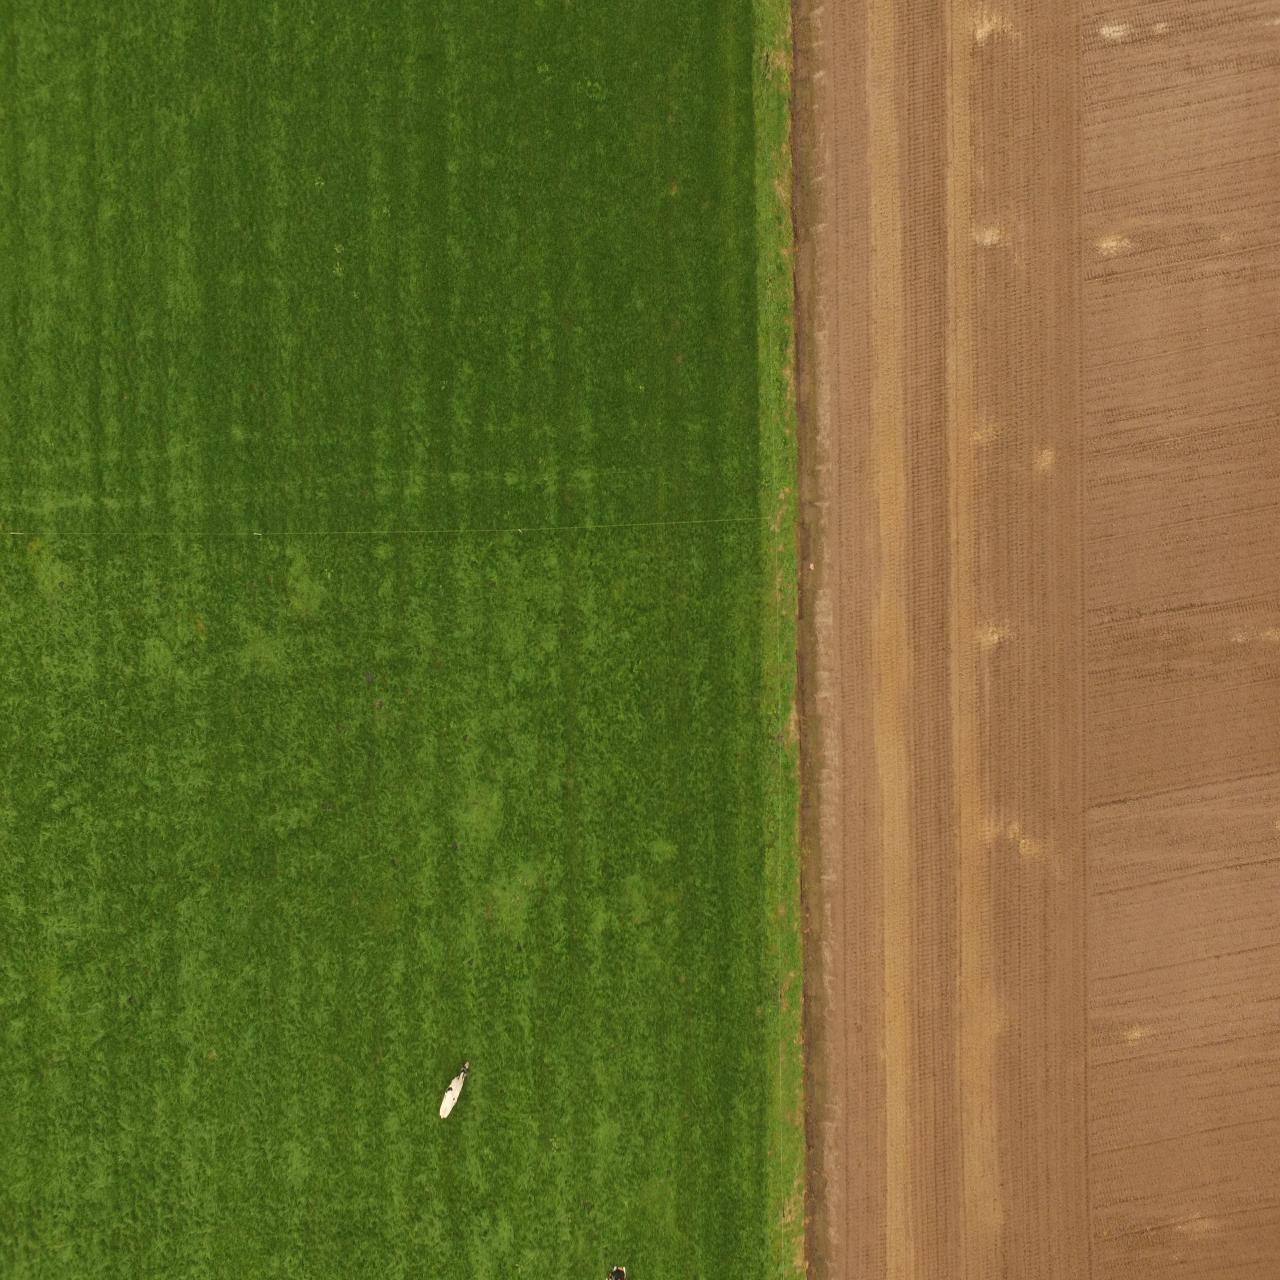cow: (434, 1059, 472, 1126)
